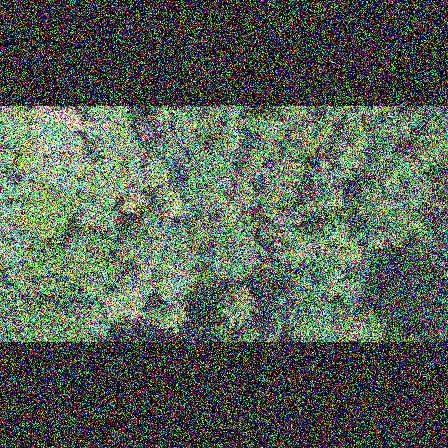Dead: (133, 123, 159, 149)
